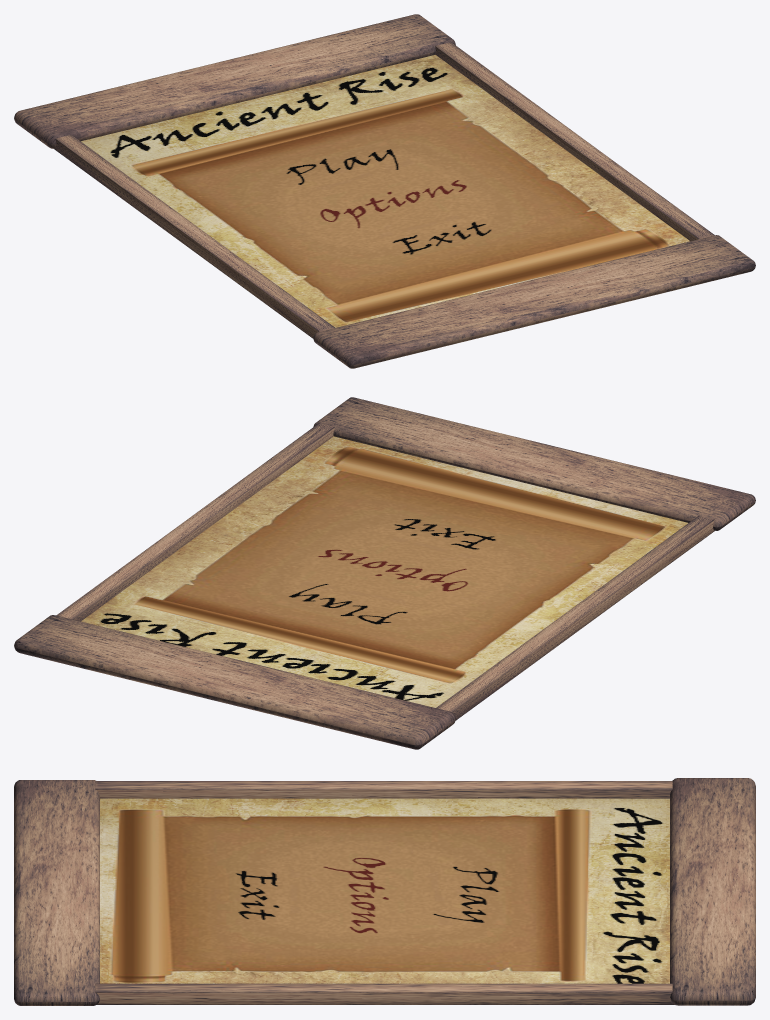
The model's file is Carajo.obj.
3 views of the same model, one above another, from view 1: azimuth 30°, elevation 25°; view 2: azimuth 150°, elevation 25°; view 3: azimuth 270°, elevation 25° (orthographic). The views are drawn at different scales.
Visible parts, largest first — view 1: ChamferBox005, ChamferBox002, ChamferBox001, ChamferBox003, ChamferBox004; view 2: ChamferBox005, ChamferBox001, ChamferBox002, ChamferBox003, ChamferBox004; view 3: ChamferBox005, ChamferBox001, ChamferBox002, ChamferBox004, ChamferBox003.
Boxes of the visible parts, box(x1,y1,x2,y2) form: ChamferBox005: box(81, 55, 689, 327); ChamferBox002: box(313, 235, 755, 368); ChamferBox001: box(14, 14, 455, 148); ChamferBox003: box(54, 134, 334, 338); ChamferBox004: box(435, 42, 714, 241); ChamferBox005: box(81, 436, 687, 707); ChamferBox001: box(14, 615, 455, 749); ChamferBox002: box(313, 397, 755, 530); ChamferBox003: box(436, 515, 714, 720); ChamferBox004: box(56, 423, 335, 621); ChamferBox005: box(100, 798, 669, 983); ChamferBox001: box(670, 778, 755, 1005); ChamferBox002: box(14, 780, 99, 1005); ChamferBox004: box(95, 983, 674, 1004); ChamferBox003: box(95, 781, 672, 798).
Bounding box in the file's own units: 120 × 3.85 × 173.
